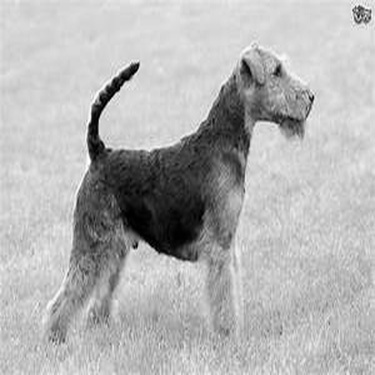dog: (20, 28, 324, 359)
